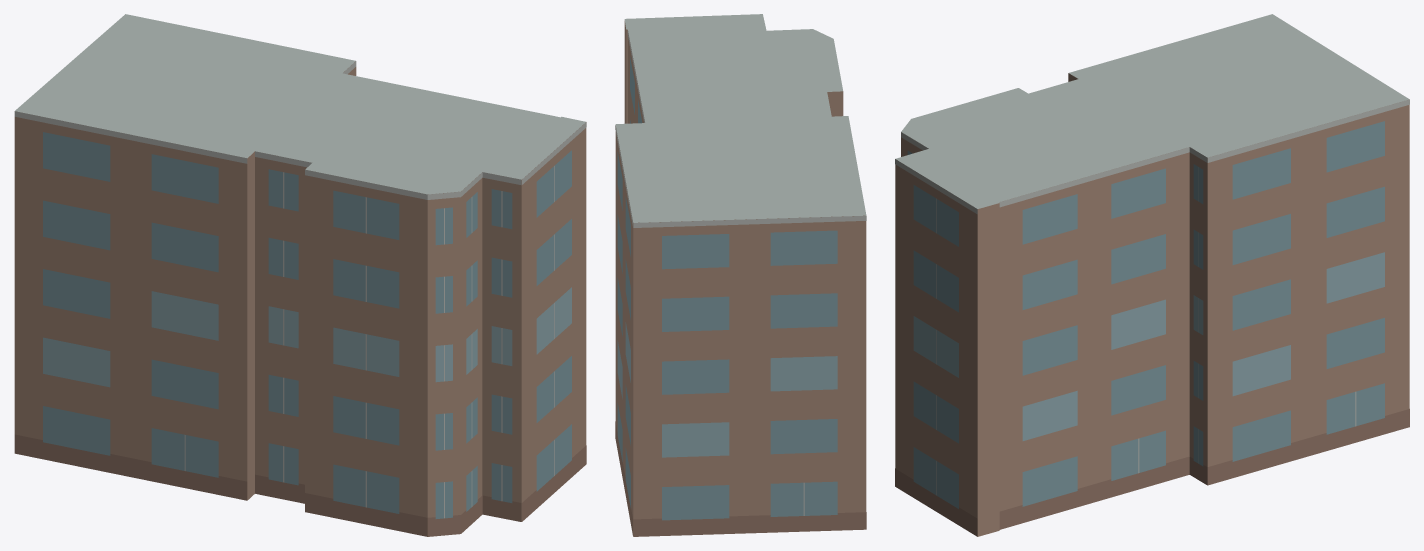
File: survey-upis-33031630.glb
The picture shows the model from 3 angles, left to right: view 1: azimuth 30°, elevation 25°; view 2: azimuth 150°, elevation 25°; view 3: azimuth 270°, elevation 25°; orthographic projection. The views are drawn at different scales.
Parts seen in each view (by area): view 1: survey-upis-33031630.tmp; view 2: survey-upis-33031630.tmp; view 3: survey-upis-33031630.tmp.
Boxes of the visible parts, left/top/right/bottom form: survey-upis-33031630.tmp: left=14, top=14, right=586, bottom=536; survey-upis-33031630.tmp: left=615, top=14, right=866, bottom=536; survey-upis-33031630.tmp: left=895, top=14, right=1409, bottom=536.
Size of the model in its own units: 19.04 by 14.9 by 21.21.
